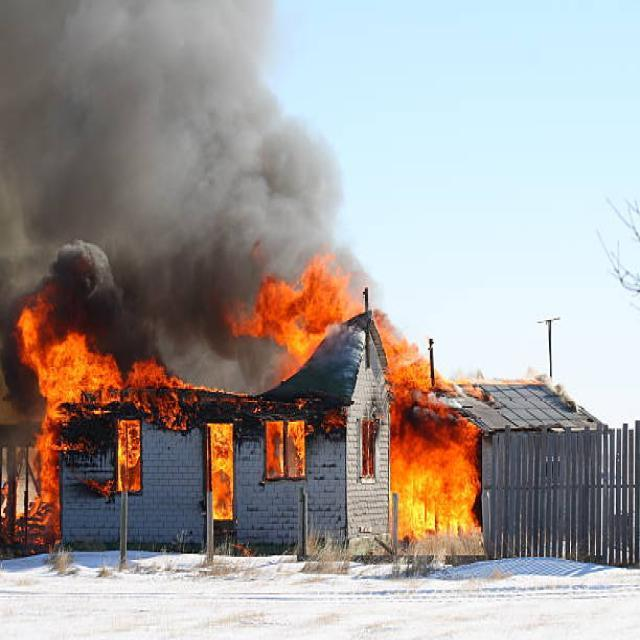Fire: (8, 306, 178, 506), (374, 326, 488, 535), (231, 252, 352, 366), (212, 434, 234, 530)
Smoke: (0, 0, 339, 388), (0, 237, 170, 392)
